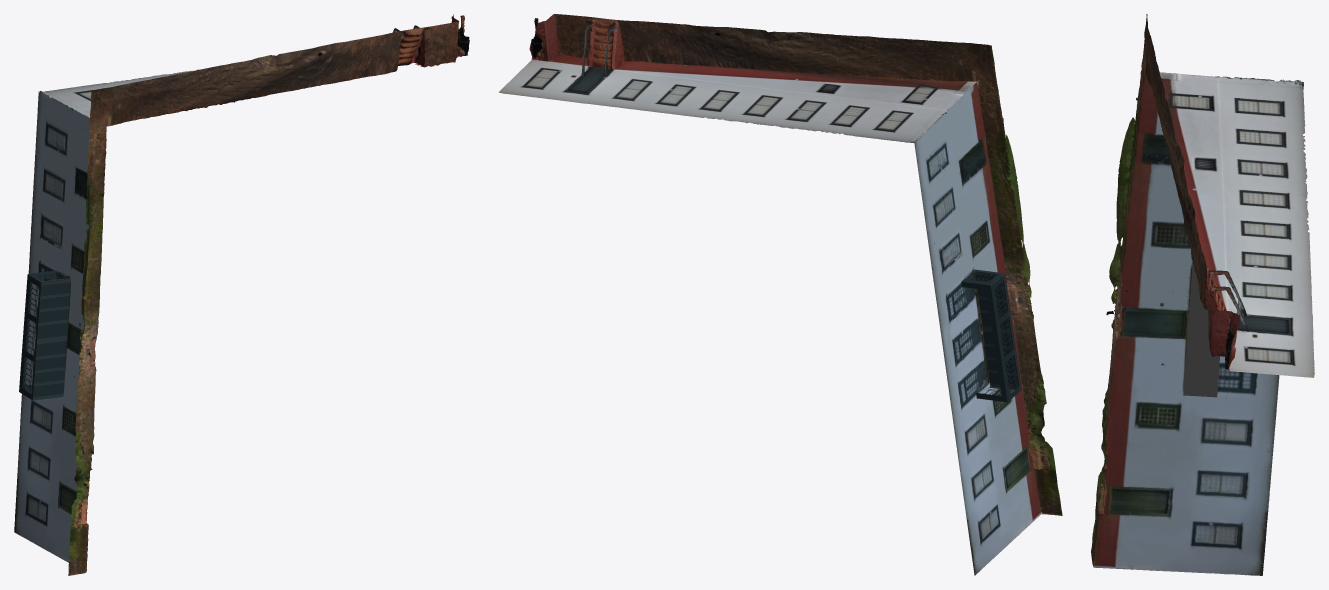
The model's file is G1Finalizado.FBX.
3 views of the same model, side by side, from view 1: azimuth 30°, elevation 25°; view 2: azimuth 150°, elevation 25°; view 3: azimuth 270°, elevation 25° (orthographic). The views are drawn at different scales.
Visible parts, largest first — view 1: Model, Box001; view 2: Model, Box001; view 3: Model, Box001.
Part boxes in pixels (left/top/right/bottom): Model: left=14, top=14, right=469, bottom=575; Box001: left=19, top=270, right=70, bottom=400; Model: left=498, top=14, right=1062, bottom=575; Box001: left=961, top=269, right=1021, bottom=402; Model: left=1091, top=14, right=1314, bottom=575; Box001: left=1183, top=262, right=1219, bottom=397.
Size of the model in its own units: 2199 by 755 by 2160.
Materials: 2 (2 with a texture image).
